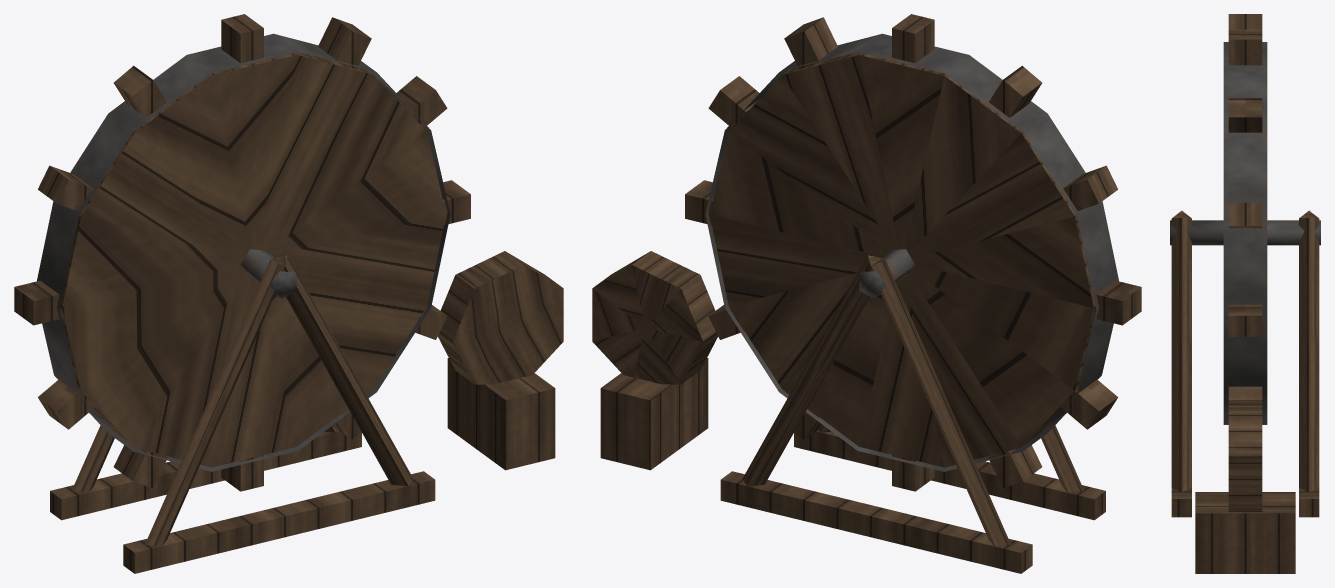
File: Gear_Large_1_LOD1.gltf
The picture shows the model from 3 angles, left to right: view 1: azimuth 30°, elevation 25°; view 2: azimuth 150°, elevation 25°; view 3: azimuth 270°, elevation 25°; orthographic projection. The views are drawn at different scales.
Visible parts, largest first — view 1: Gear_Large_1_LOD1; view 2: Gear_Large_1_LOD1; view 3: Gear_Large_1_LOD1.
Part boxes in pixels (x1,y1,x2,y2): Gear_Large_1_LOD1: (14,14,563,573); Gear_Large_1_LOD1: (592,14,1141,573); Gear_Large_1_LOD1: (1170,14,1320,573).
Bounding box in the file's own units: 3.18 × 2.79 × 0.9.
2 materials, 2 textured.
